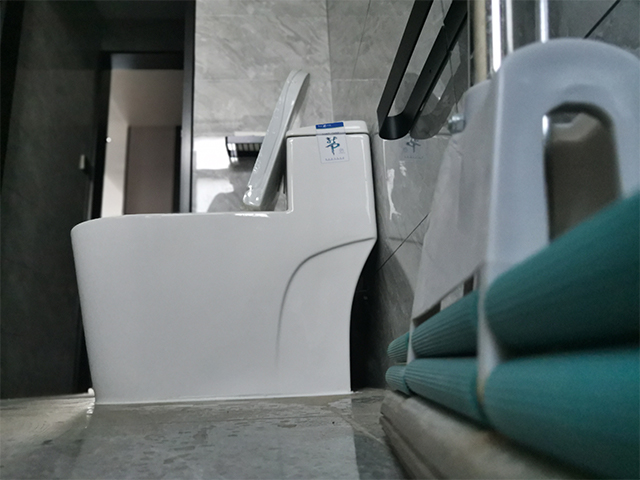closestool: (67, 69, 379, 408)
